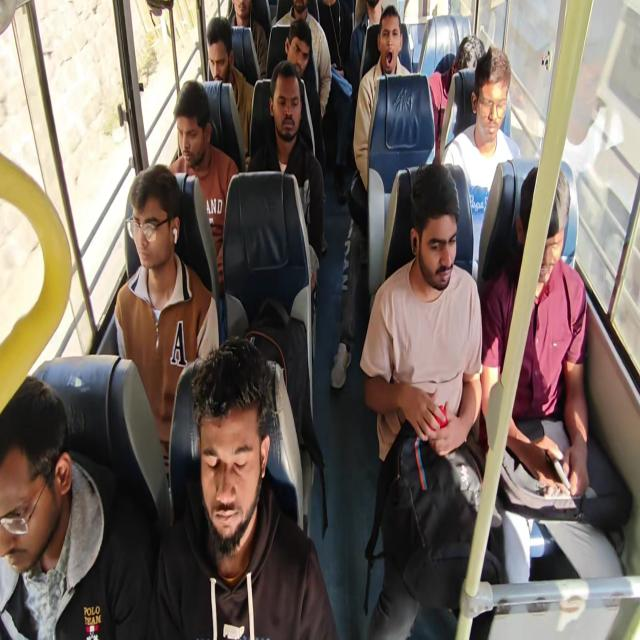person: (2, 1, 635, 638), (480, 163, 632, 586), (359, 163, 484, 638), (149, 336, 339, 638), (0, 375, 153, 639), (113, 164, 220, 488), (330, 5, 412, 388), (247, 60, 325, 359), (538, 2, 624, 272), (441, 44, 521, 277), (168, 79, 240, 297), (560, 2, 622, 180), (308, 0, 353, 204), (205, 16, 254, 159), (428, 34, 486, 146), (283, 18, 325, 171), (288, 0, 332, 119), (308, 0, 352, 78), (226, 0, 267, 79), (349, 0, 383, 92)
